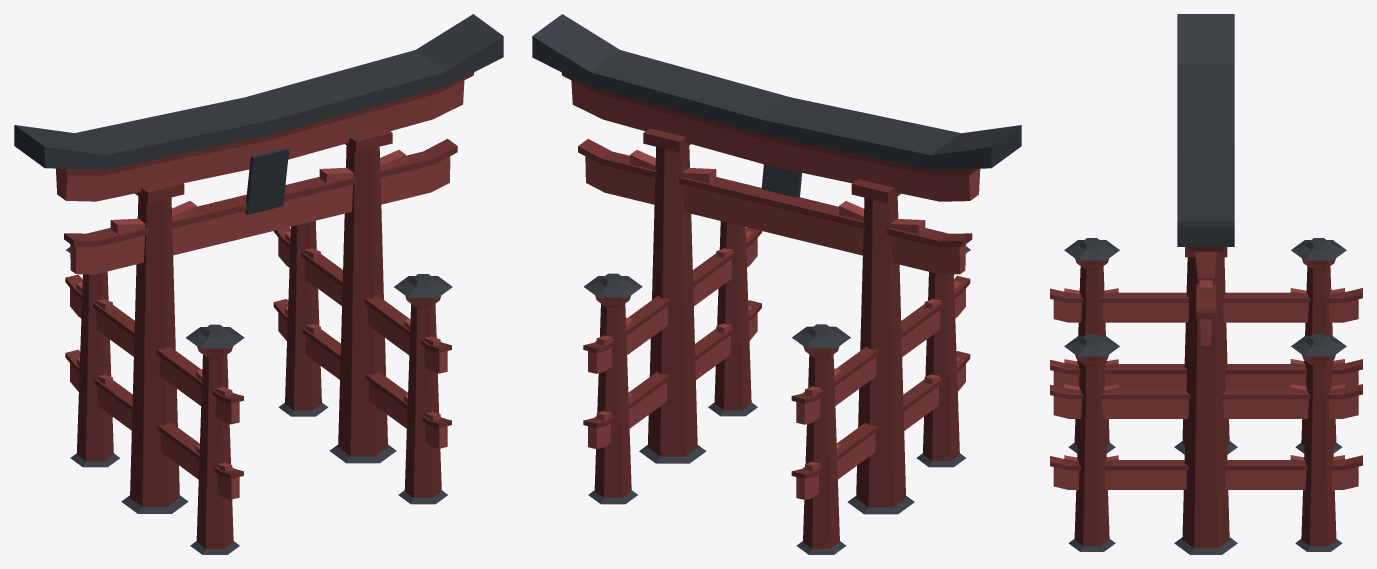
The model's file is center-structure.glb.
3 views of the same model, side by side, from view 1: azimuth 30°, elevation 25°; view 2: azimuth 150°, elevation 25°; view 3: azimuth 270°, elevation 25° (orthographic). The views are drawn at different scales.
Parts seen in each view (by area): view 1: OWnG_largeGate(RyobuTorii)_01; view 2: OWnG_largeGate(RyobuTorii)_01; view 3: OWnG_largeGate(RyobuTorii)_01.
Boxes of the visible parts, bbox=[...] form: OWnG_largeGate(RyobuTorii)_01: bbox=[14, 14, 503, 554]; OWnG_largeGate(RyobuTorii)_01: bbox=[532, 14, 1021, 554]; OWnG_largeGate(RyobuTorii)_01: bbox=[1050, 14, 1362, 554].
Bounding box in the file's own units: 15.68 × 12.94 × 9.78.
